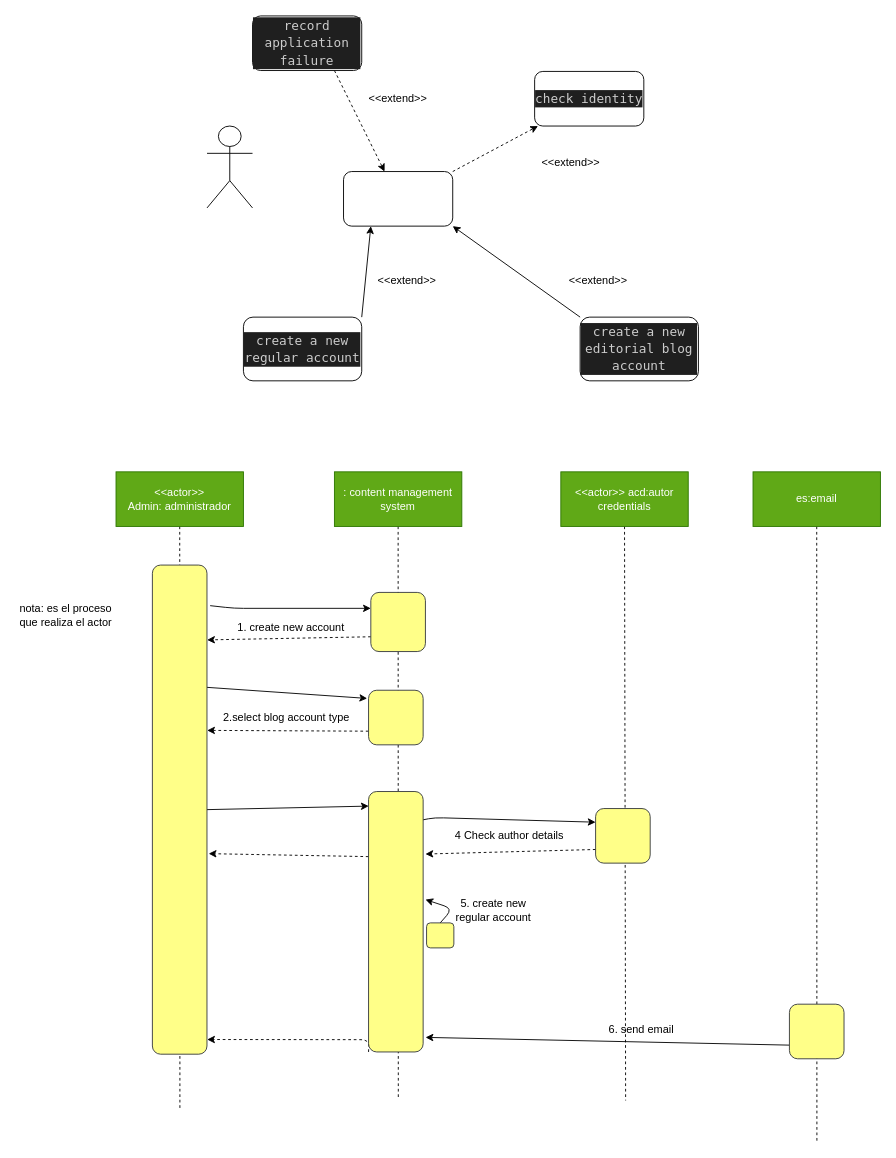
Some shapes in this 896 by 1158 pixel diagram are drawn without their labels. Each missing label, with the box of its shape:
3. Enter author credentials: (151, 564, 207, 1054)
Actor: (206, 125, 253, 208)
create a new blog account: (343, 171, 453, 226)
